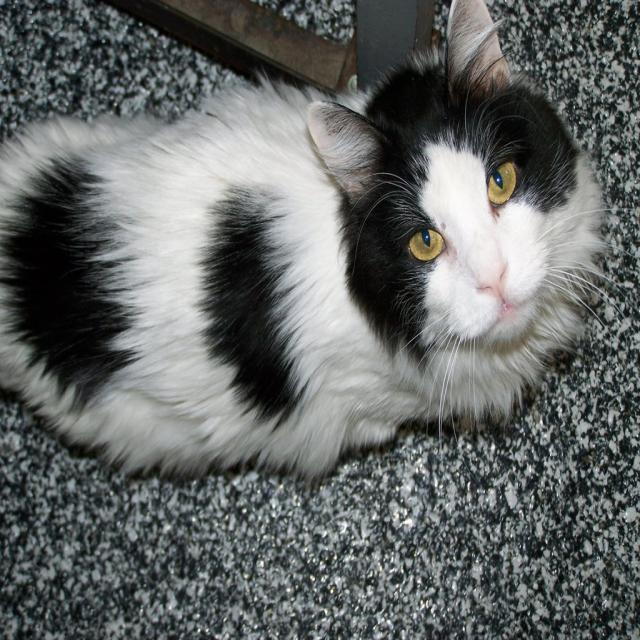Cat: (0, 0, 636, 484)
